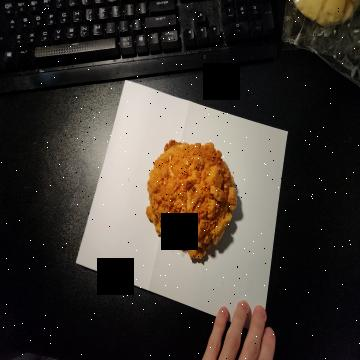soboru_bread: (142, 135, 240, 265)
